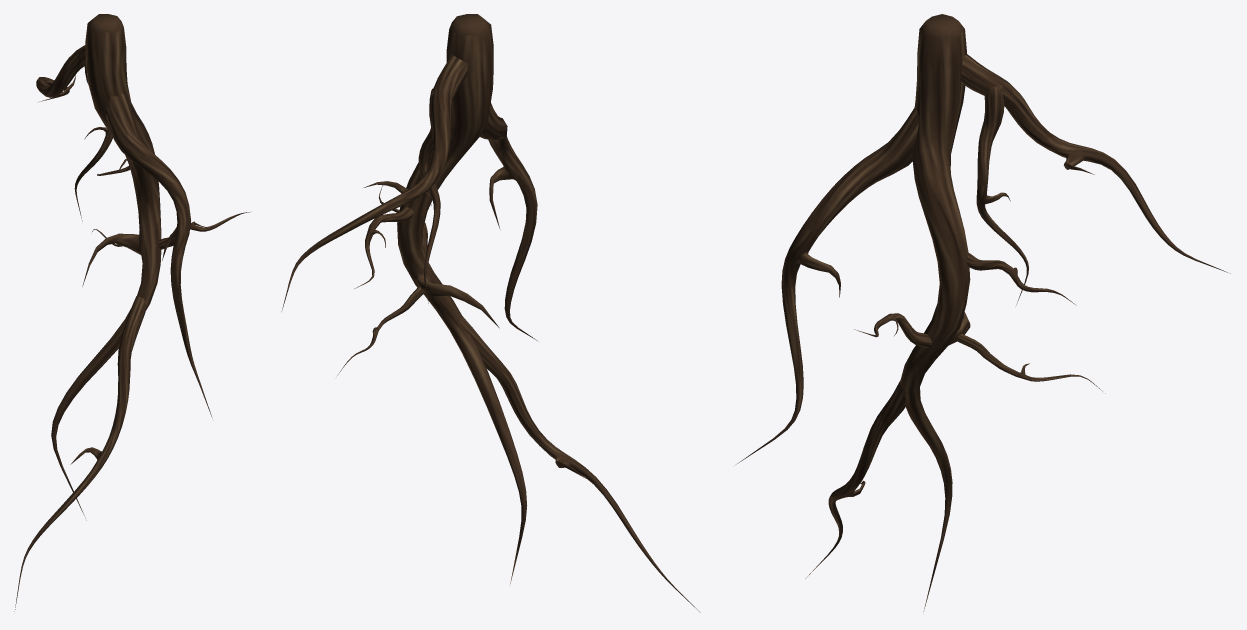
File: radice.fbx
3 views of the same model, side by side, from view 1: azimuth 30°, elevation 25°; view 2: azimuth 150°, elevation 25°; view 3: azimuth 270°, elevation 25° (orthographic). The views are drawn at different scales.
Visible parts, largest first — view 1: pCylinder9; view 2: pCylinder9; view 3: pCylinder9.
Part boxes in pixels (x1=…): pCylinder9: x1=14, y1=14, x2=251, y2=611; pCylinder9: x1=281, y1=14, x2=700, y2=612; pCylinder9: x1=736, y1=14, x2=1229, y2=611.
Bounding box in the file's own units: 10.53 × 20.34 × 14.24.
